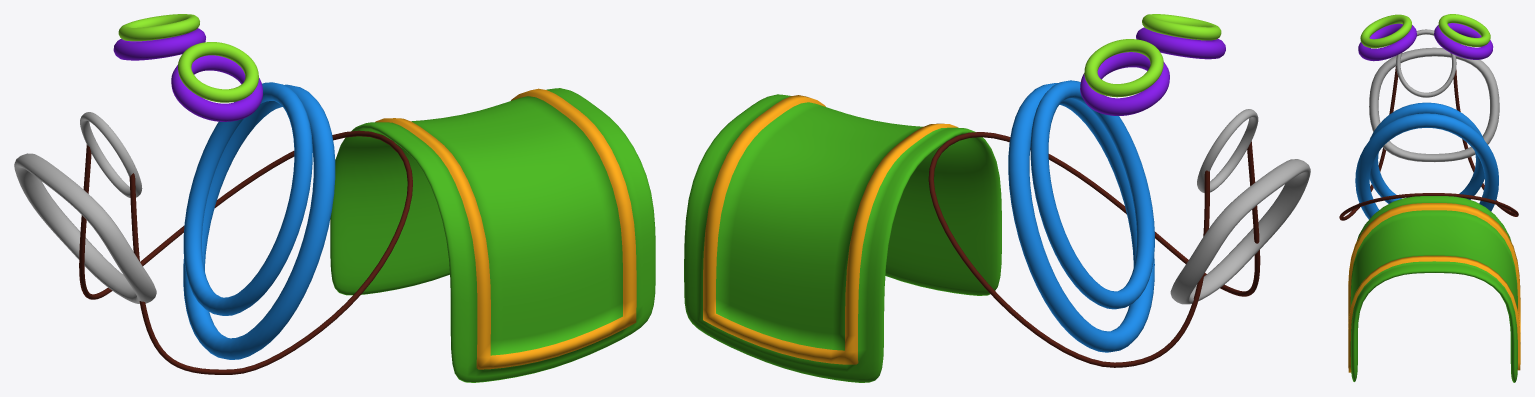
The model's file is accessories.gltf.
The picture shows the model from 3 angles, left to right: view 1: azimuth 30°, elevation 25°; view 2: azimuth 150°, elevation 25°; view 3: azimuth 270°, elevation 25°; orthographic projection. The views are drawn at different scales.
Parts seen in each view (by area): view 1: mat, NeckRingBig, NeckRingSmall, BurroHedring, Rope, HornRingSmall, HornRingBig, Headring; view 2: mat, NeckRingBig, NeckRingSmall, BurroHedring, Rope, HornRingSmall, HornRingBig, Headring; view 3: mat, NeckRingBig, BurroHedring, HornRingSmall, NeckRingSmall, HornRingBig, Rope, Headring.
Boxes of the visible parts, box(x1,y1,x2,y2) form: mat: box(330, 88, 655, 382); NeckRingBig: box(183, 84, 335, 359); NeckRingSmall: box(183, 82, 312, 315); BurroHedring: box(14, 153, 156, 303); Rope: box(79, 130, 412, 374); HornRingSmall: box(113, 28, 263, 121); HornRingBig: box(118, 14, 258, 102); Headring: box(80, 112, 142, 197); mat: box(684, 94, 1001, 382); NeckRingBig: box(1008, 83, 1154, 352); NeckRingSmall: box(1030, 80, 1154, 309); BurroHedring: box(1170, 159, 1310, 304); Rope: box(928, 132, 1260, 367); HornRingSmall: box(1080, 27, 1225, 115); HornRingBig: box(1084, 14, 1221, 97); Headring: box(1197, 109, 1258, 192); mat: box(1348, 196, 1520, 382); NeckRingBig: box(1355, 113, 1498, 219); BurroHedring: box(1369, 47, 1499, 162); HornRingSmall: box(1358, 23, 1493, 61); NeckRingSmall: box(1369, 102, 1484, 203); HornRingBig: box(1360, 14, 1490, 48); Rope: box(1339, 66, 1518, 220); Headring: box(1396, 29, 1456, 97).
Bounding box in the file's own units: 1.17 × 0.7532 × 0.5.
6 materials, 1 textured.
